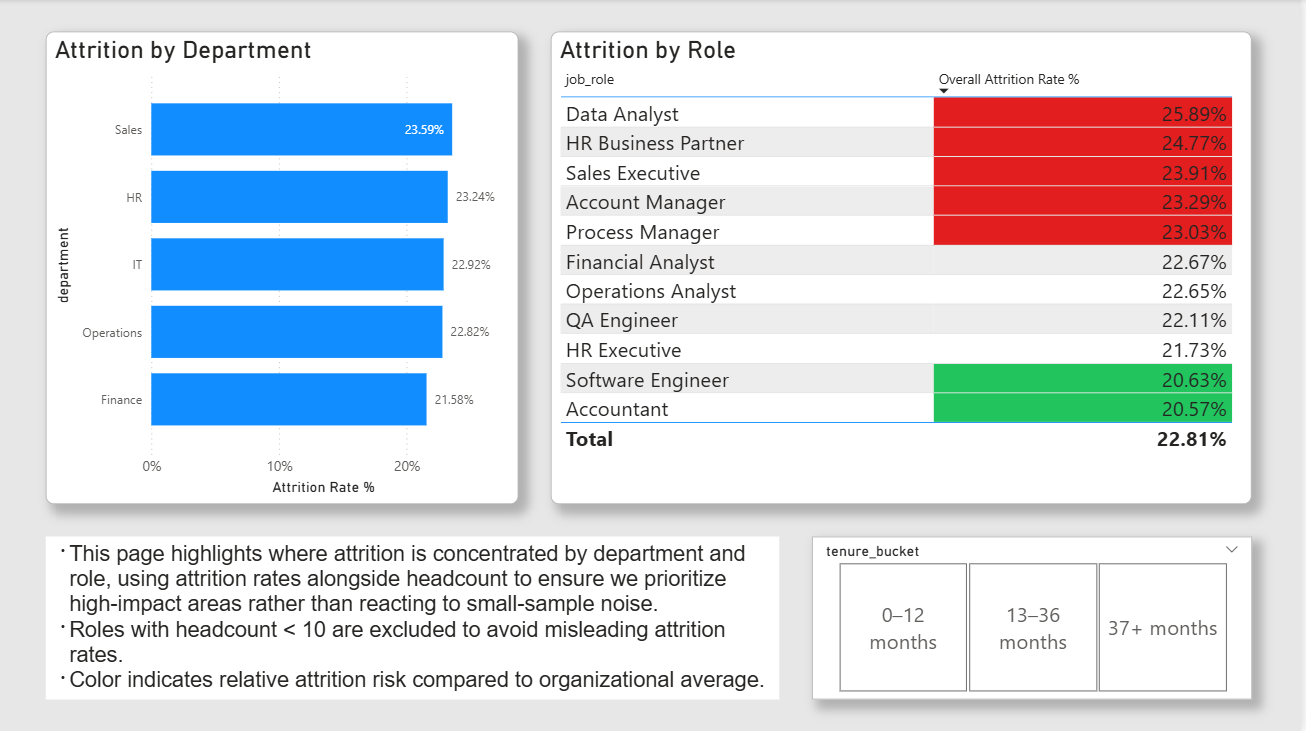

The dashboard page shown, as its layout file describes it:
{"tool":"powerbi","page":{"name":"Where Attrition Happens","canvas":[1280,720],"ordinal":1},"visuals":[{"type":"clusteredBarChart","title":"Attrition by Department","fields":{"Category":["employee_base.department"],"Y":["employee_base.Overall Attrition Rate %"]},"box":[48,32,464,464],"z":0},{"type":"tableEx","title":"Attrition by Role","fields":{"Values":["employee_base.job_role","employee_base.Overall Attrition Rate %"]},"box":[544,32,688,464],"z":1000},{"type":"textbox","box":[48,528,720,160],"z":2000},{"type":"slicer","fields":{"Values":["employee_base.tenure_bucket"]},"box":[800,528,432,160],"z":3000}]}

Visuals, with their boxes in screenshot pixels (x1, y1, x2, y2), scaled from the page's 1280x720 canvas onto the 1306x731 screenshot:
"Attrition by Department" clusteredBarChart: [left=49, top=32, right=522, bottom=504]
"Attrition by Role" tableEx: [left=555, top=32, right=1257, bottom=504]
textbox: [left=49, top=536, right=784, bottom=699]
slicer - employee_base.tenure_bucket: [left=816, top=536, right=1257, bottom=699]
